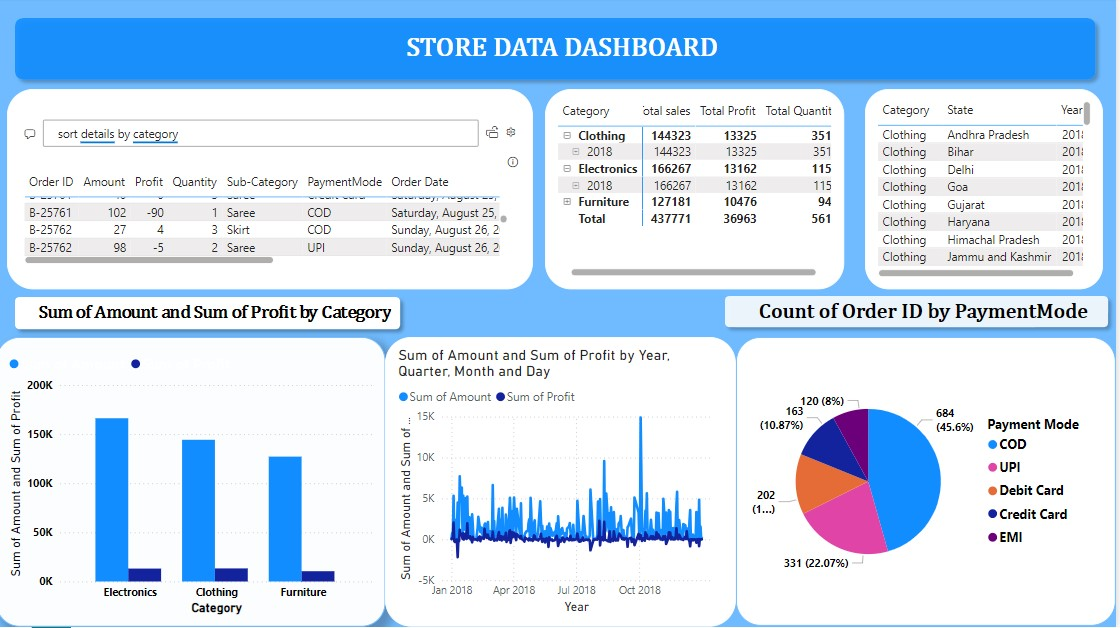

What the dashboard file says about the page in this screenshot:
{"tool":"powerbi","page":{"name":"Page 1","canvas":[1280,720],"ordinal":0},"visuals":[{"type":"shape","box":[12.9,15.4,1253,88.7],"z":0},{"type":"shape","box":[12.6,333.7,458.3,54.9],"z":1000},{"type":"qnaVisual","box":[12.6,105.1,601.1,228.6],"z":2000},{"type":"clusteredColumnChart","fields":{"Category":["DETAILS.Category"],"Y":["Sum(DETAILS.Amount)","Sum(DETAILS.Profit)"]},"box":[0,388.6,444.6,331.4],"z":3000},{"type":"pieChart","fields":{"Category":["DETAILS.PaymentMode"],"Y":["CountNonNull(DETAILS.Order ID)"]},"box":[845.7,388.6,434.3,330.3],"z":4000},{"type":"shape","box":[824,332.6,456,53.7],"z":5000},{"type":"pivotTable","fields":{"Rows":["DETAILS.Category","DETAILS.Order Date.Variation.Date Hierarchy.Year","DETAILS.Order Date.Variation.Date Hierarchy.Quarter","DETAILS.Order Date.Variation.Date Hierarchy.Month","DETAILS.Order Date.Variation.Date Hierarchy.Day"],"Values":["Sum(DETAILS.Amount)","Sum(DETAILS.Profit)","Sum(DETAILS.Quantity)"]},"box":[627.4,105.1,341.7,228.6],"z":6000},{"type":"tableEx","fields":{"Values":["DETAILS.Category","ORDERS.State","DETAILS.Order Date.Variation.Date Hierarchy.Year"]},"box":[993.1,105.1,272,228.6],"z":7000},{"type":"lineChart","fields":{"Category":["DETAILS.Order Date.Variation.Date Hierarchy.Year","DETAILS.Order Date.Variation.Date Hierarchy.Quarter","DETAILS.Order Date.Variation.Date Hierarchy.Month","DETAILS.Order Date.Variation.Date Hierarchy.Day"],"Y":["Sum(DETAILS.Amount)","Sum(DETAILS.Profit)"]},"box":[444.6,388.6,401.1,331.4],"z":7001}]}

Visuals, with their boxes in screenshot pixels (x1, y1, x2, y2), scaled from the page's 1280x720 canvas onto the 1120x628 screenshot:
shape: region(11, 13, 1108, 91)
shape: region(11, 291, 412, 339)
qnaVisual: region(11, 92, 537, 291)
clusteredColumnChart - DETAILS.Category x Sum(DETAILS.Amount): region(0, 339, 389, 627)
pieChart - DETAILS.PaymentMode x CountNonNull(DETAILS.Order ID): region(740, 339, 1119, 627)
shape: region(721, 290, 1119, 337)
pivotTable - DETAILS.Category x DETAILS.Order Date.Variation.Date Hierarchy.Year: region(549, 92, 848, 291)
tableEx - DETAILS.Category x ORDERS.State: region(869, 92, 1107, 291)
lineChart - DETAILS.Order Date.Variation.Date Hierarchy.Year x DETAILS.Order Date.Variation.Date Hierarchy.Quarter: region(389, 339, 740, 627)
